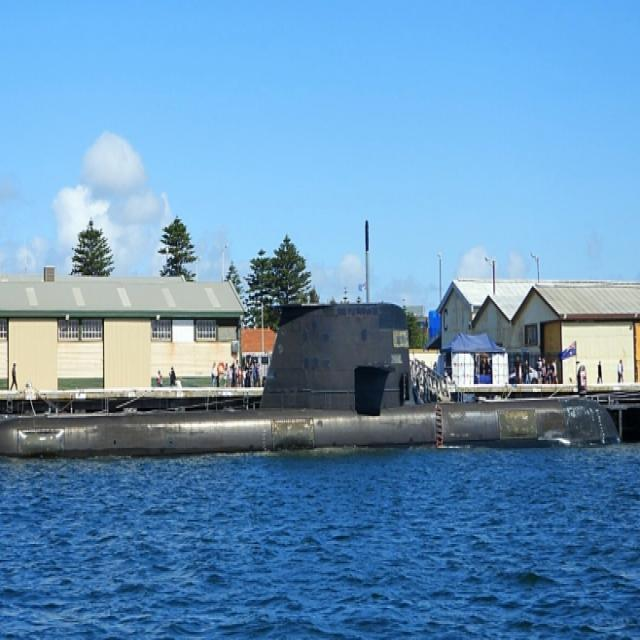submarine: (1, 207, 623, 448)
